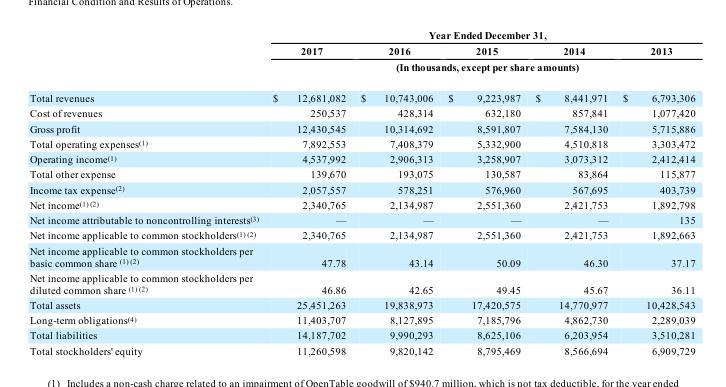table: (29, 28, 694, 355)
table column: (29, 28, 265, 355), (352, 28, 440, 355), (265, 28, 352, 355), (440, 28, 527, 355), (527, 28, 614, 355), (614, 28, 694, 355)
table column header: (29, 28, 694, 82)
table row: (29, 242, 694, 269), (29, 269, 694, 296), (29, 58, 694, 82), (29, 82, 694, 105), (29, 42, 694, 58), (29, 135, 694, 151), (29, 211, 694, 227), (29, 296, 694, 312), (29, 105, 694, 120), (29, 120, 694, 135), (29, 151, 694, 166), (29, 166, 694, 181), (29, 181, 694, 196), (29, 196, 694, 211), (29, 227, 694, 242), (29, 312, 694, 327), (29, 327, 694, 342), (29, 28, 694, 42), (29, 342, 694, 355)
table spanning cell: (265, 58, 694, 82), (265, 28, 694, 42)
